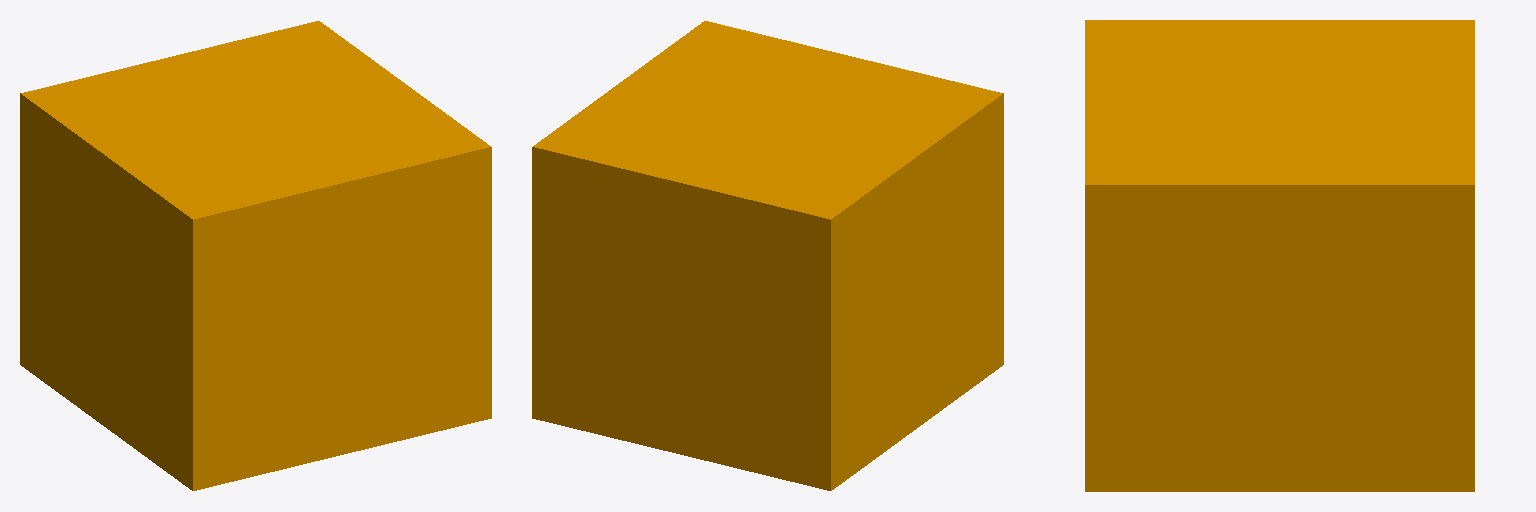
URDF robot description (object):
<robot name="object">
  <link name="object">
    <visual>
      <origin xyz="0 0 0" />
      <geometry>
        <box size="0.09200000000000003 0.09200000000000003 0.08" />
      </geometry>
    </visual>

    <collision>
      <origin xyz="0 0 0" />
      <geometry>
        <box size="0.09200000000000003 0.09200000000000003 0.08" />
      </geometry>
    </collision>

    <inertial>
      <mass value="0.05" />
      <inertia ixx="0.0001" ixy="0.0" ixz="0.0" iyy="0.0001" iyz="0.0" izz="0.0001" />
    </inertial>
  </link>
</robot>

--- Facts derived from the render (not from the file) ---
3 views of the same robot in one strip: view 1: azimuth 30°, elevation 25°; view 2: azimuth 150°, elevation 25°; view 3: azimuth 270°, elevation 25° (orthographic).
Model object with 1 links and 0 joints (none), rooted at object, posed every joint at zero.
Visible links, largest first — view 1: object; view 2: object; view 3: object.
Link boxes in pixels (left/top/right/bottom): object: left=20, top=21, right=491, bottom=490; object: left=532, top=21, right=1003, bottom=490; object: left=1085, top=20, right=1474, bottom=491.
Bounding box of the posed robot: 0.092 × 0.092 × 0.08 m (x, y, z).
Geometry: primitives only (box / cylinder / sphere), no mesh files.